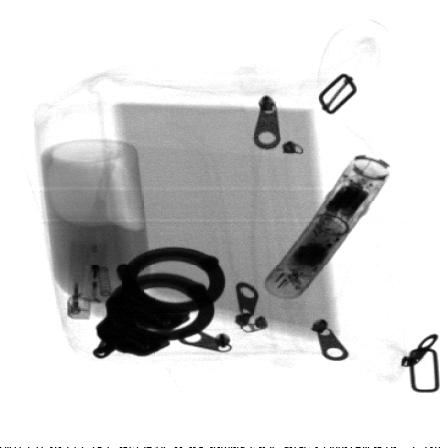Baton: (263, 156, 390, 299)
HandCuffs: (93, 246, 227, 360)
Lighter: (68, 241, 92, 318)
